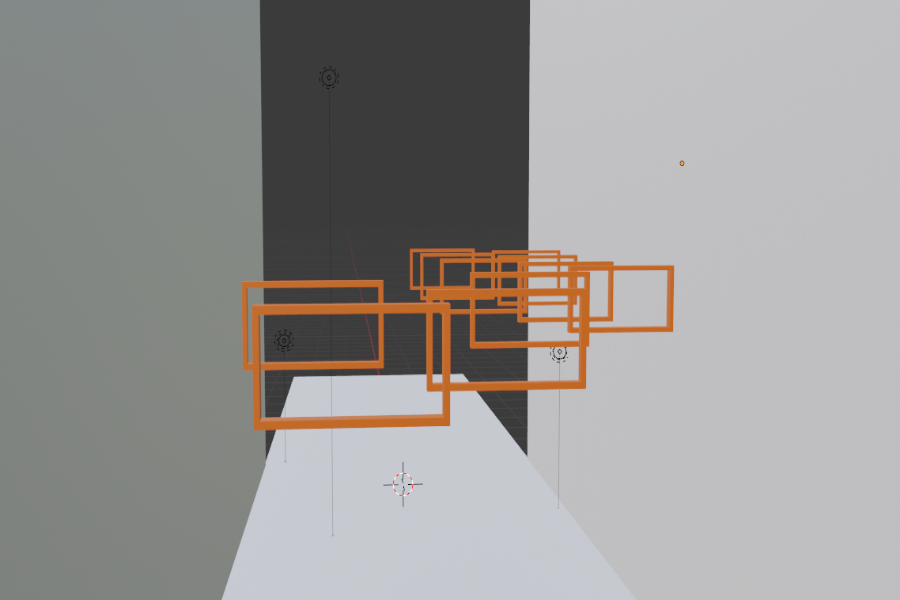GATE: (247, 303, 453, 433), (425, 286, 587, 388), (237, 280, 383, 369)
